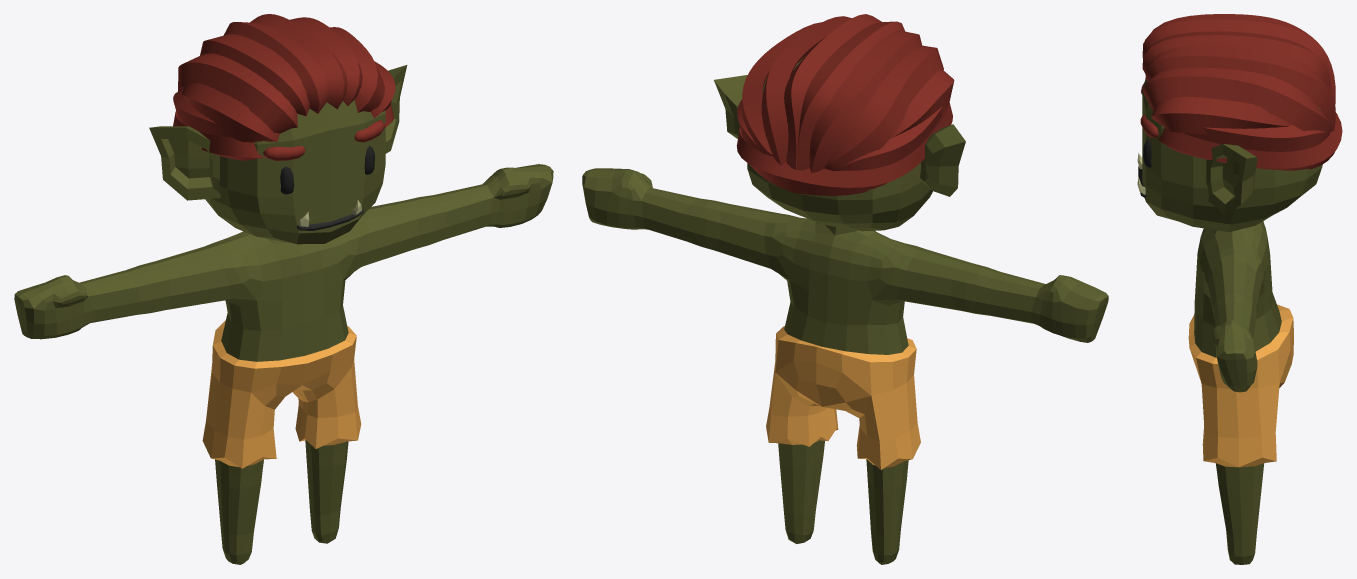
File: Goober.fbx
3 views of the same model, side by side, from view 1: azimuth 30°, elevation 25°; view 2: azimuth 150°, elevation 25°; view 3: azimuth 270°, elevation 25° (orthographic). The views are drawn at different scales.
Visible parts, largest first — view 1: Body; view 2: Body; view 3: Body.
Part boxes in pixels (box(x1,y1,x2,y2)): Body: box(14, 14, 553, 564); Body: box(582, 14, 1108, 564); Body: box(1137, 14, 1342, 564).
Bounding box in the file's own units: 324 × 305 × 110.
